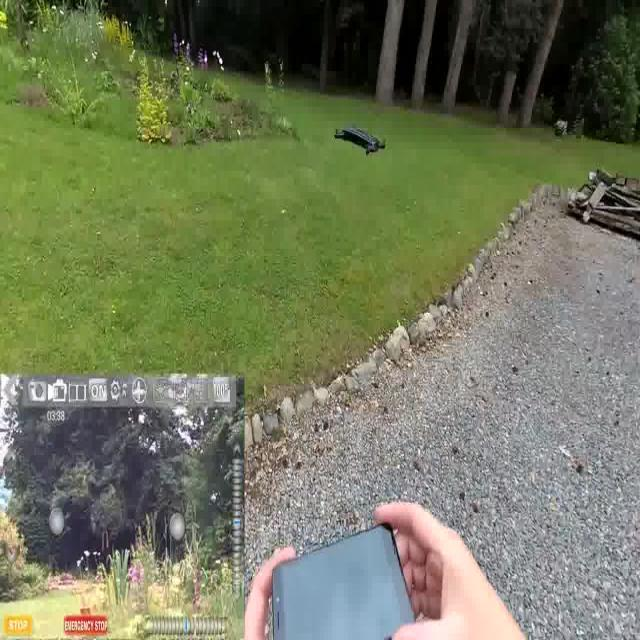drone: (331, 122, 391, 161)
